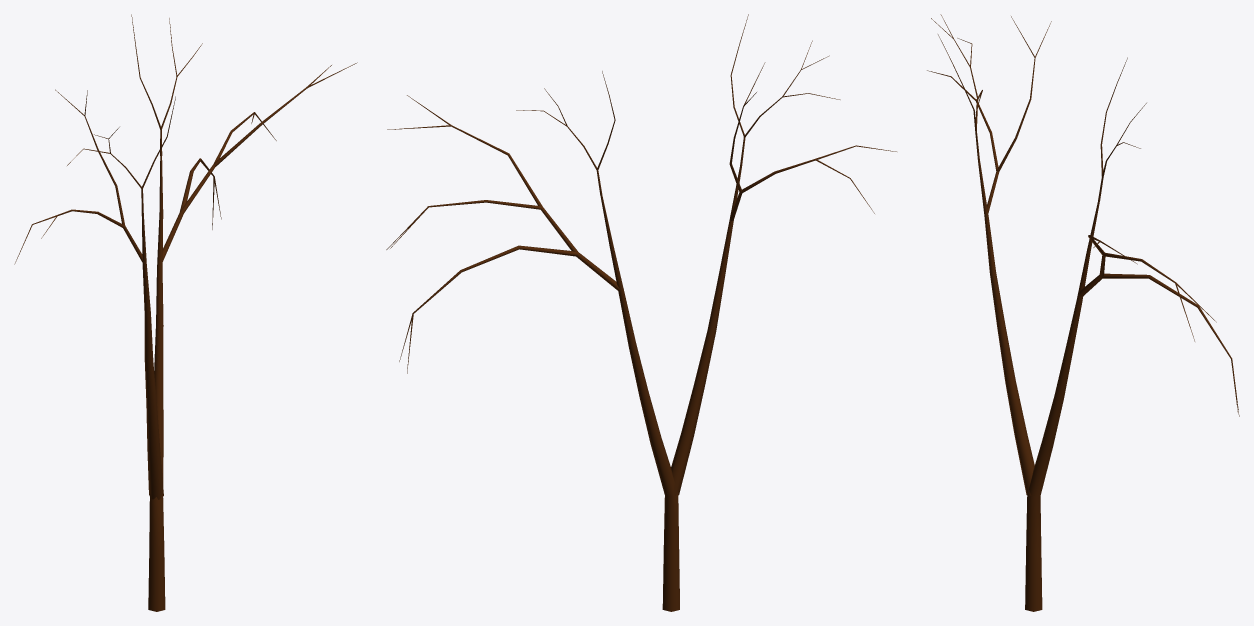
Rendered from Dead_Tree.fbx.
3 renders of one model, left to right at view 1: azimuth 30°, elevation 25°; view 2: azimuth 150°, elevation 25°; view 3: azimuth 270°, elevation 25°, orthographic. The views are drawn at different scales.
Parts seen in each view (by area): view 1: Dead_Tree; view 2: Dead_Tree; view 3: Dead_Tree.
Part boxes in pixels (x1,y1,x2,y2): Dead_Tree: [14, 14, 357, 611]; Dead_Tree: [386, 14, 896, 611]; Dead_Tree: [927, 14, 1239, 611].
Size of the model in its own units: 167 by 250 by 331.
